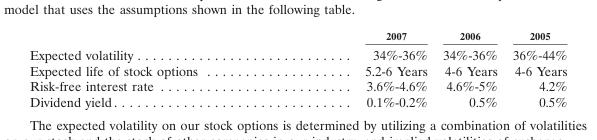table: (28, 28, 566, 109)
table column: (28, 28, 280, 109), (280, 28, 434, 109), (434, 28, 504, 109), (504, 28, 566, 109)
table column header: (28, 28, 566, 44)
table row: (28, 44, 566, 62), (28, 28, 566, 44), (28, 62, 566, 78), (28, 93, 566, 109), (28, 78, 566, 93)
